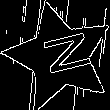N_W: (29, 31, 90, 82)
